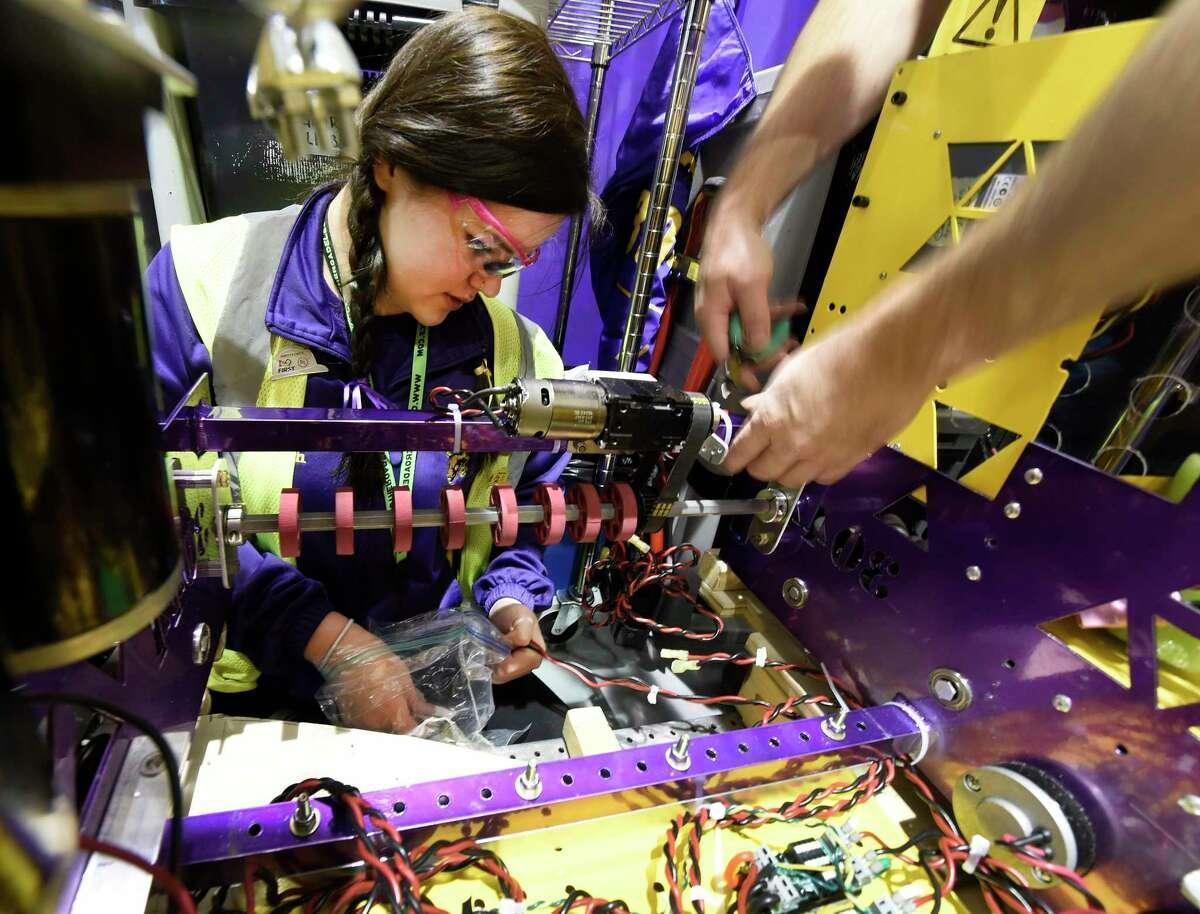robot: (11, 334, 1200, 914)
